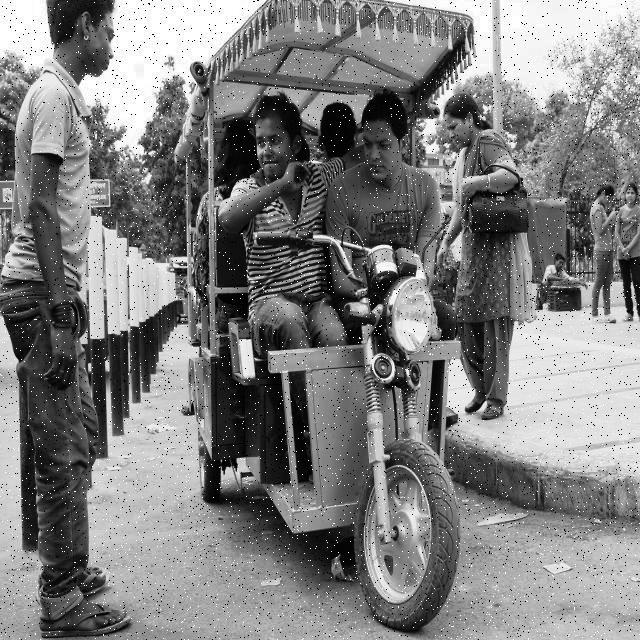Toto: (185, 0, 481, 640)
